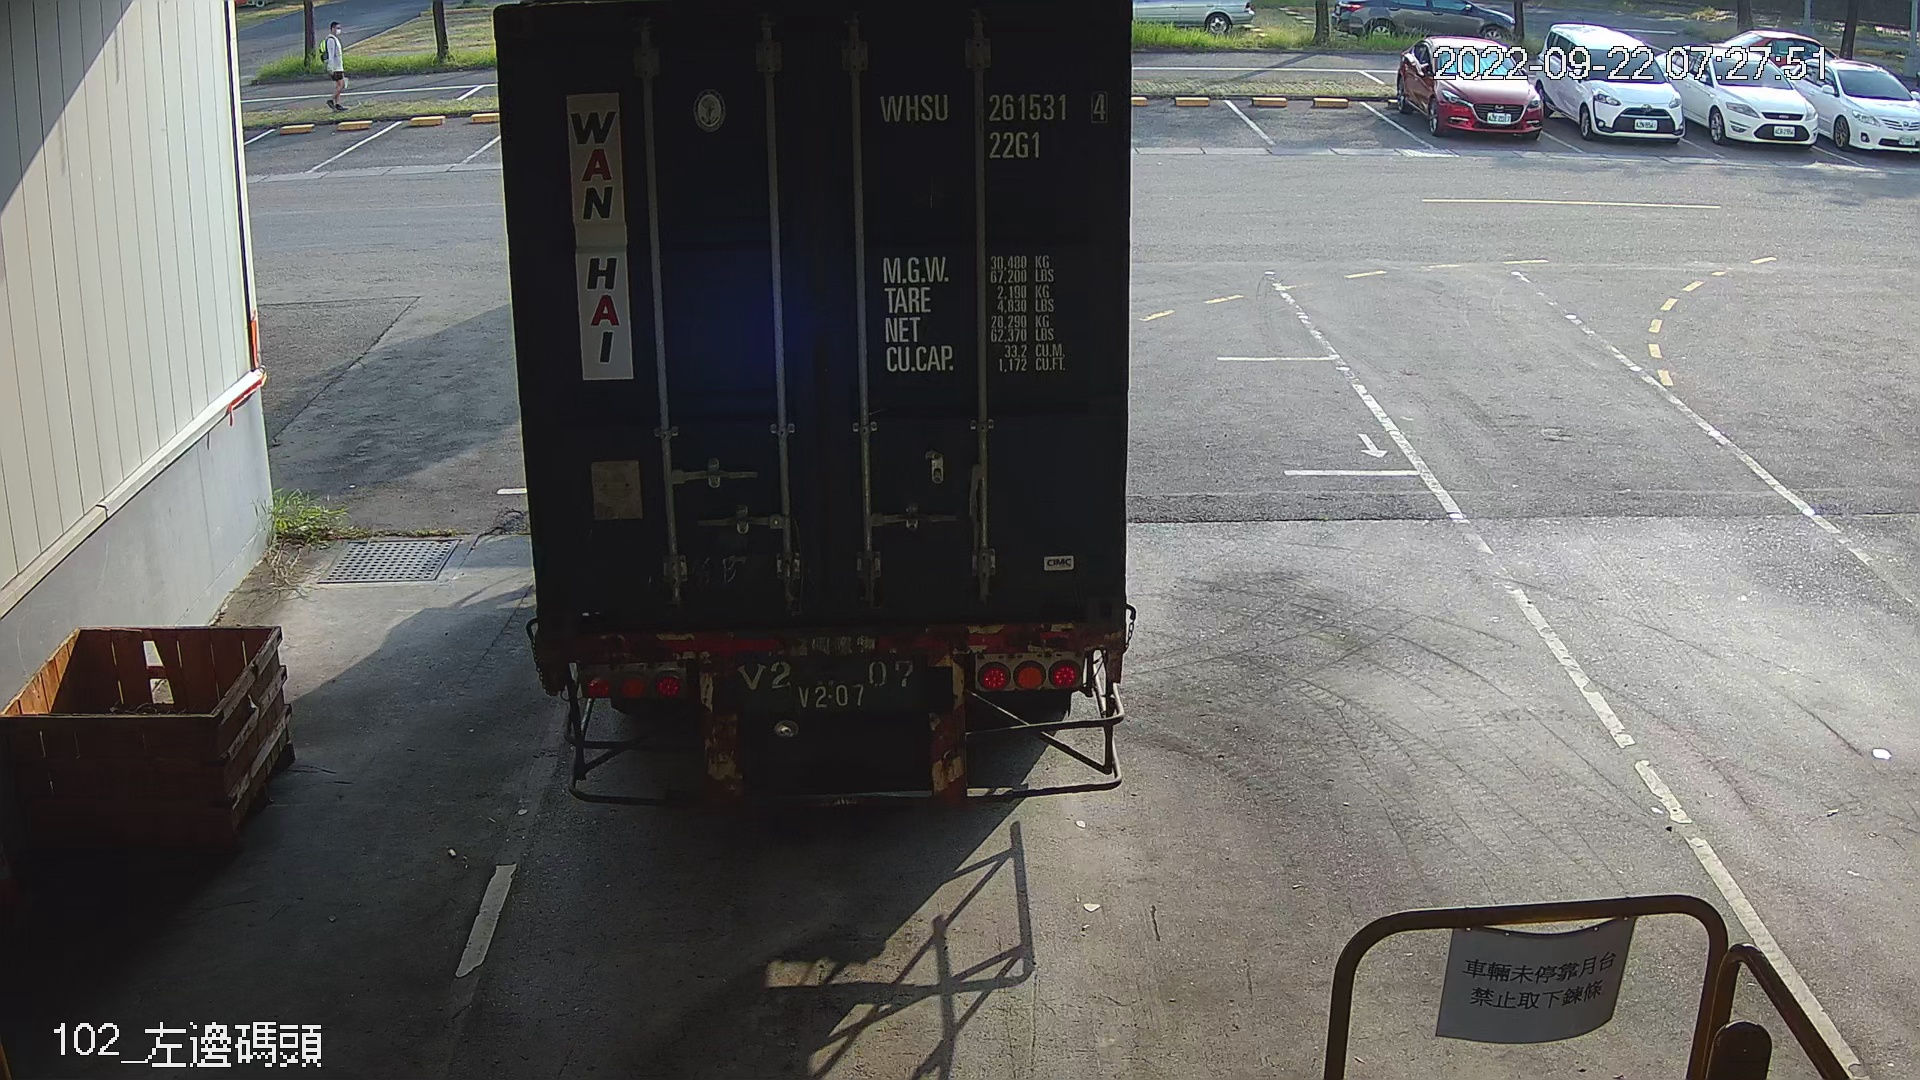container: (866, 80, 1120, 167)
